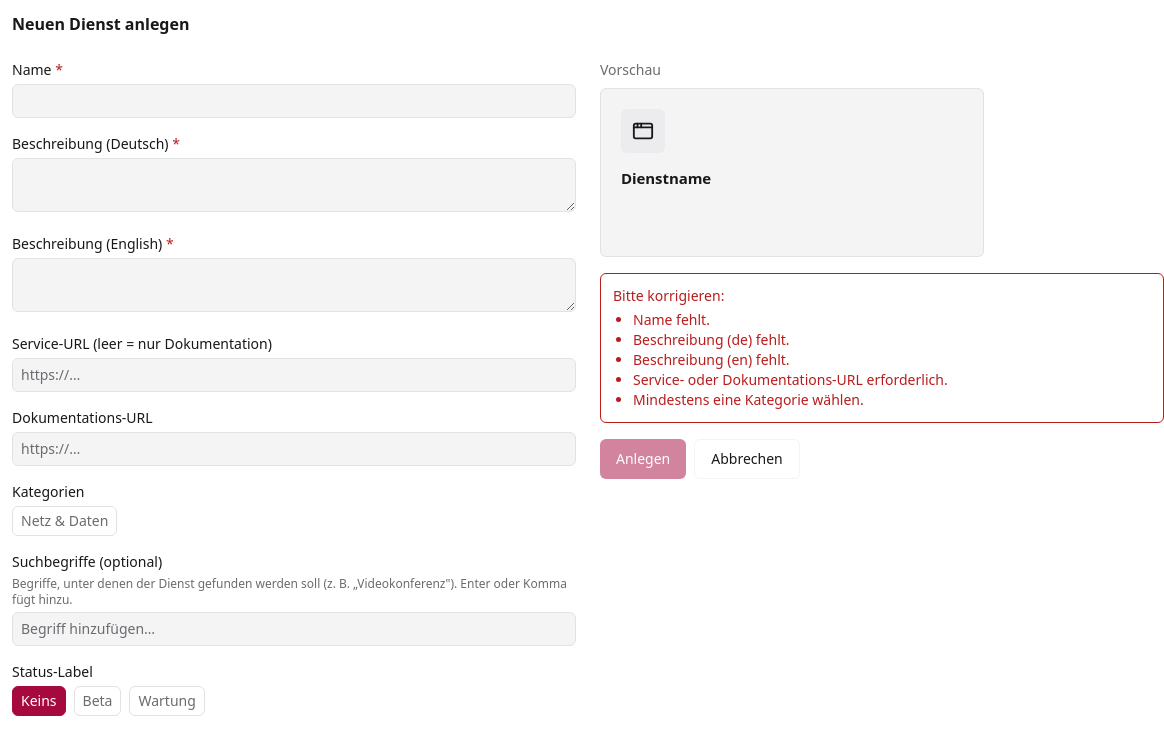
Test: ServiceForm › reflects the name in the live tile preview
This screenshot has width=1164, height=732.
Type "MyShare" into the field labelled "Name *" at x=294, y=101, box x1=12 y1=84 x2=576 y2=118
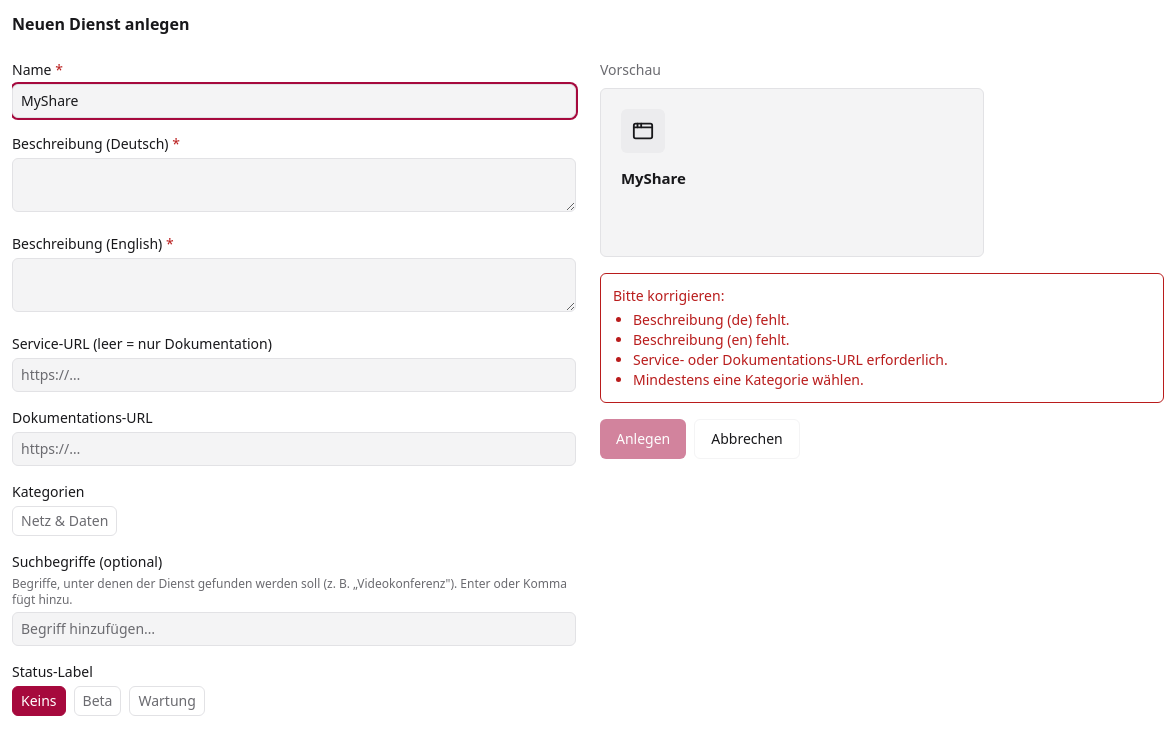
Expected: the text "Vorschau" is shown, x1=600 y1=60 x2=661 y2=79
Result: the link named "MyShare" is shown at x1=601 y1=89 x2=983 y2=256
